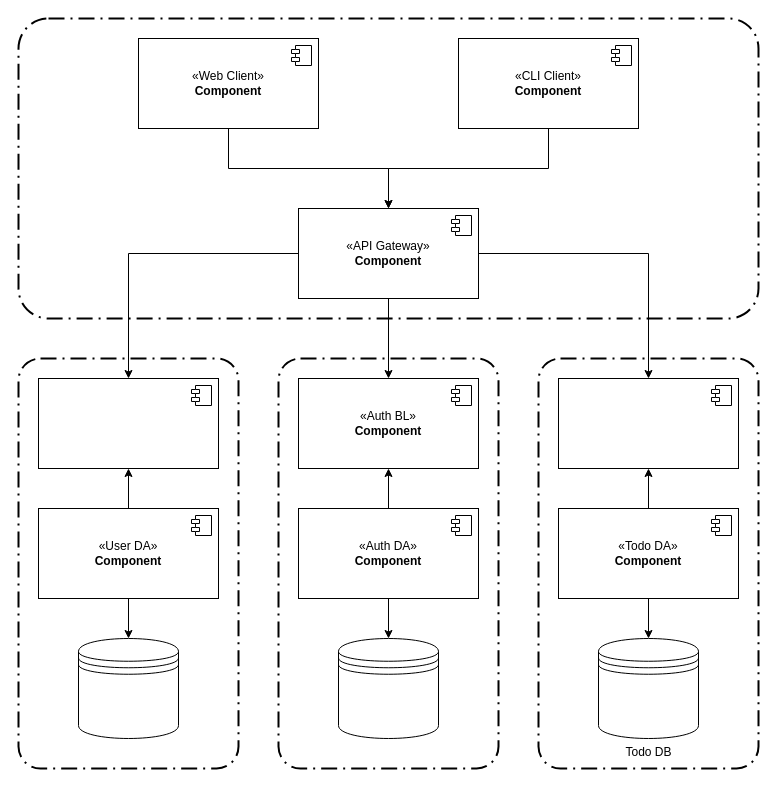
Some shapes in this 776 by 786 pixel diagram are drawn without their labels. The shapes that lost their labels are listed below. From the top down, each one's centre as x and y in pixels, then its label:
the point at 128,423: «User BL» Component
the point at 648,423: «Todo BL» Component
the point at 128,688: User DB
the point at 388,688: Auth DB
